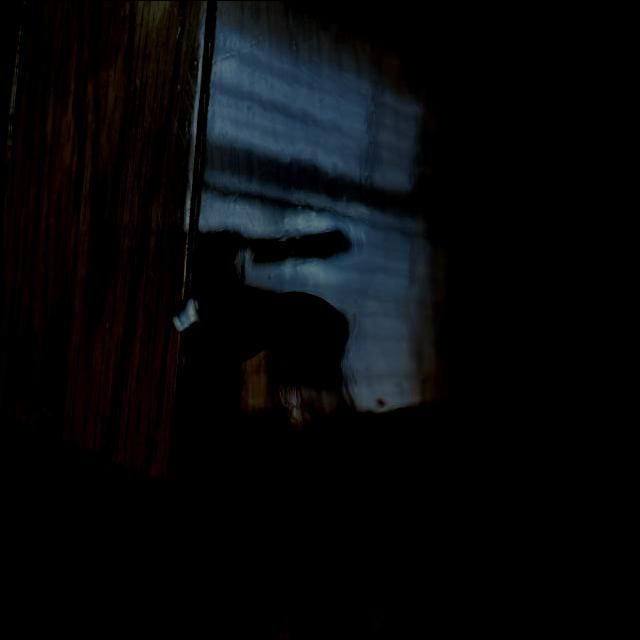COIN: (170, 278, 282, 364)
